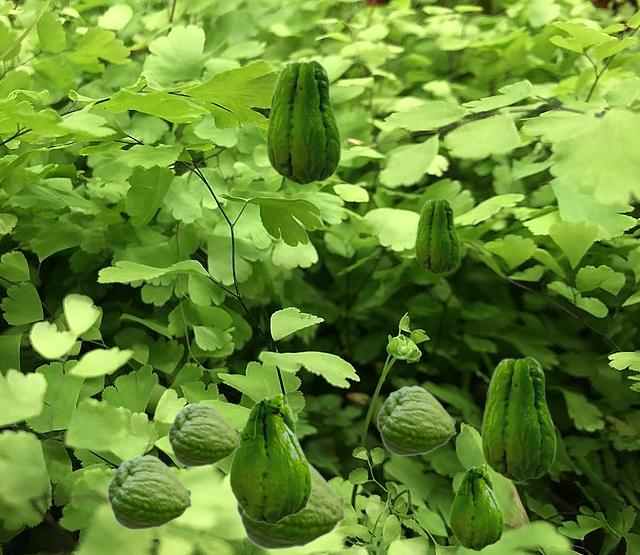sayote: (229, 393, 311, 524), (236, 462, 346, 549), (266, 59, 340, 184), (481, 356, 555, 481), (107, 454, 192, 529), (377, 385, 456, 455), (449, 464, 503, 550), (168, 402, 240, 466), (415, 198, 459, 273)
